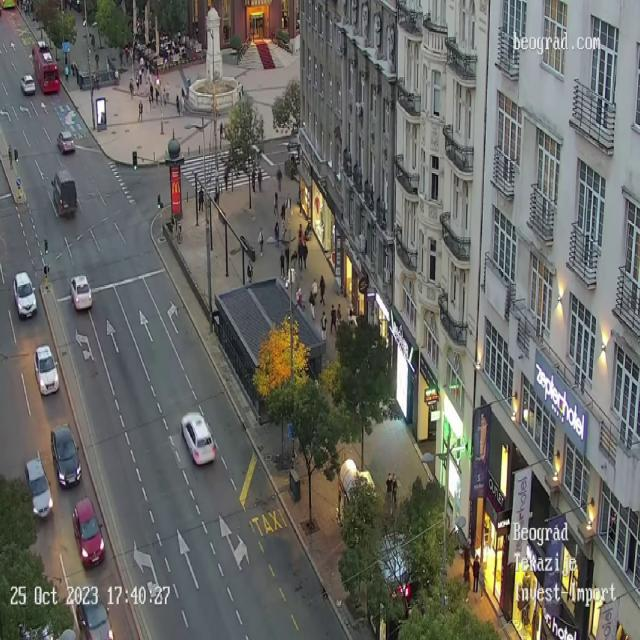bus: (31, 40, 60, 93)
car: (72, 497, 105, 568), (50, 422, 82, 489), (181, 412, 216, 466), (24, 456, 53, 519), (75, 589, 110, 640), (34, 344, 59, 396), (13, 271, 37, 320), (54, 169, 78, 218), (69, 274, 93, 311), (57, 131, 75, 153), (20, 73, 35, 95)
